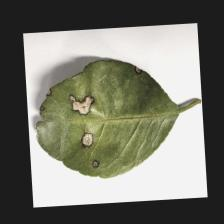canker: (45, 73, 111, 153)
